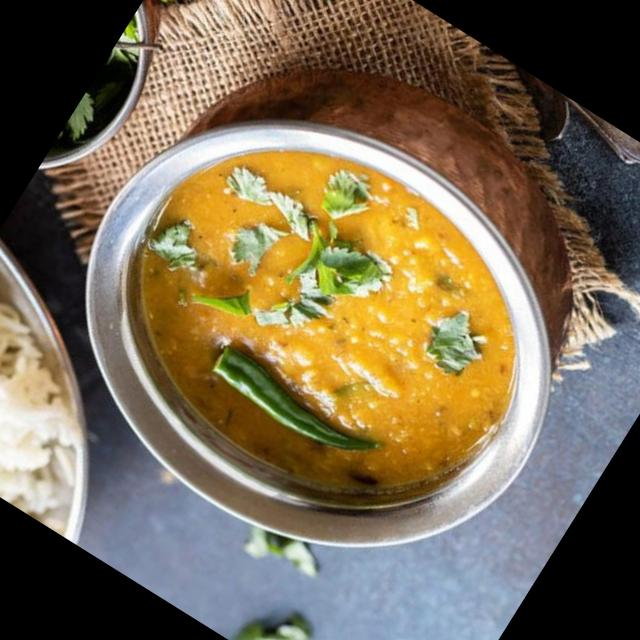dal: (80, 82, 588, 560)
rice: (0, 261, 153, 528)
